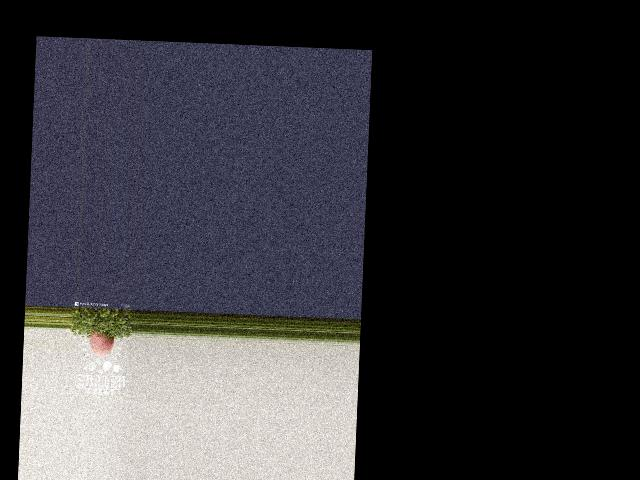egg: (90, 332, 115, 356)
